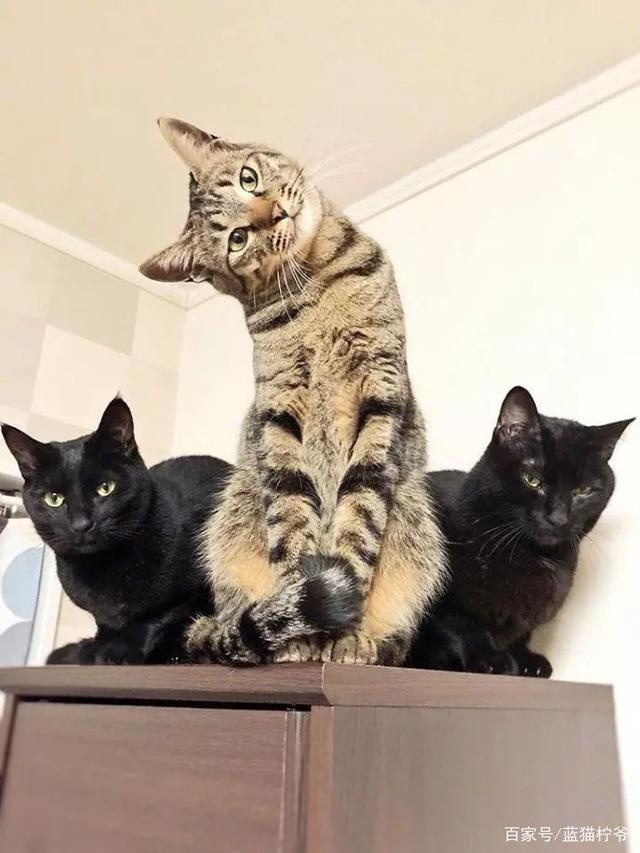cat: (140, 115, 448, 667), (6, 394, 246, 670), (423, 385, 637, 678)
